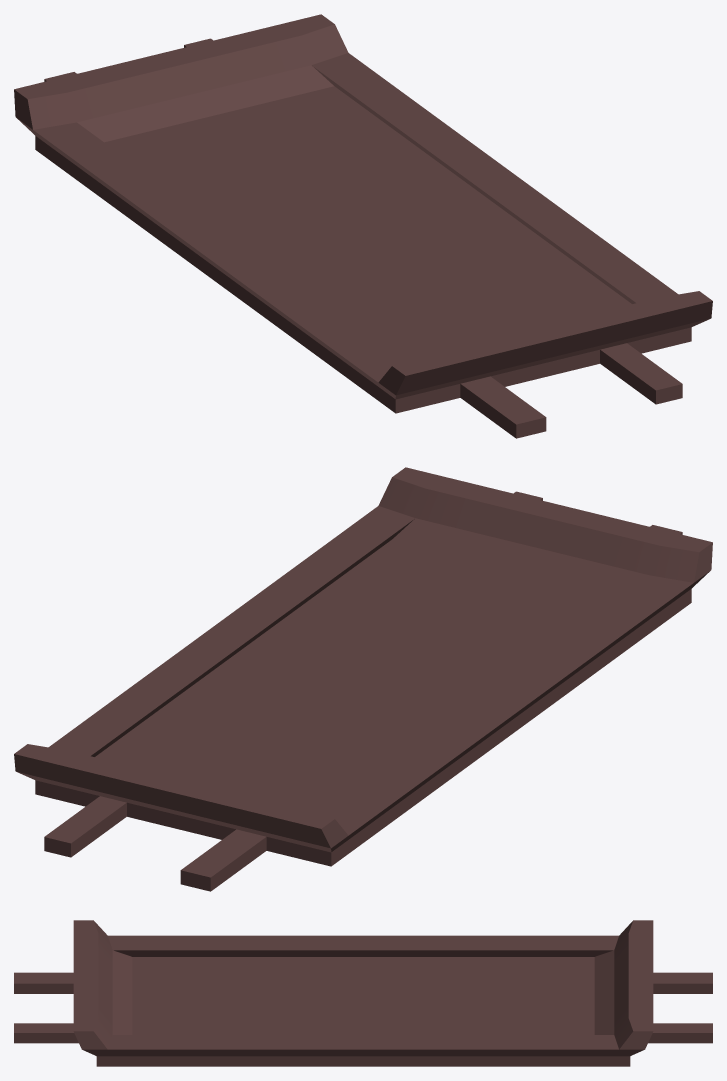
Rendered from 3Dobject_cargo_container.fbx.
3 renders of one model, top to bottom at view 1: azimuth 30°, elevation 25°; view 2: azimuth 150°, elevation 25°; view 3: azimuth 270°, elevation 25°, orthographic. The views are drawn at different scales.
Visible parts, largest first — view 1: pCube3; view 2: pCube3; view 3: pCube3.
Part boxes in pixels (<box>): pCube3: <box>14,14,712,438</box>; pCube3: <box>14,467,712,891</box>; pCube3: <box>14,920,712,1066</box>.
Bounding box in the file's own units: 1.15 × 0.1762 × 2.98.
